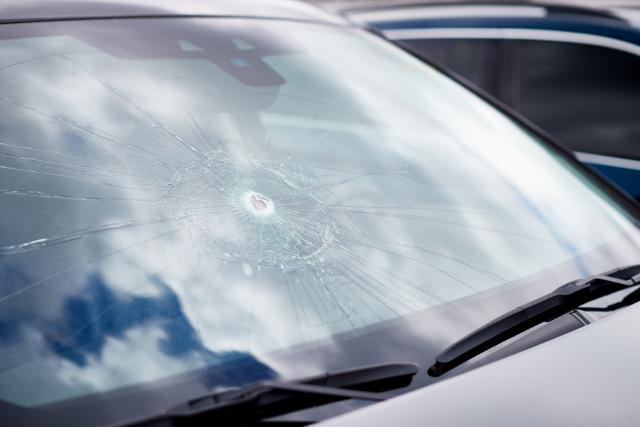Windshield: (0, 18, 640, 339)
